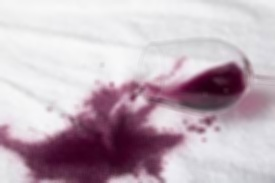wine: (14, 128, 165, 183), (78, 82, 181, 156)
